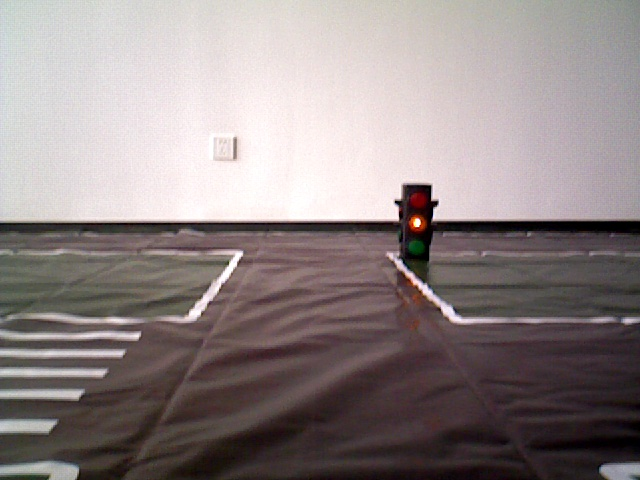yellow: (395, 185, 436, 266)
